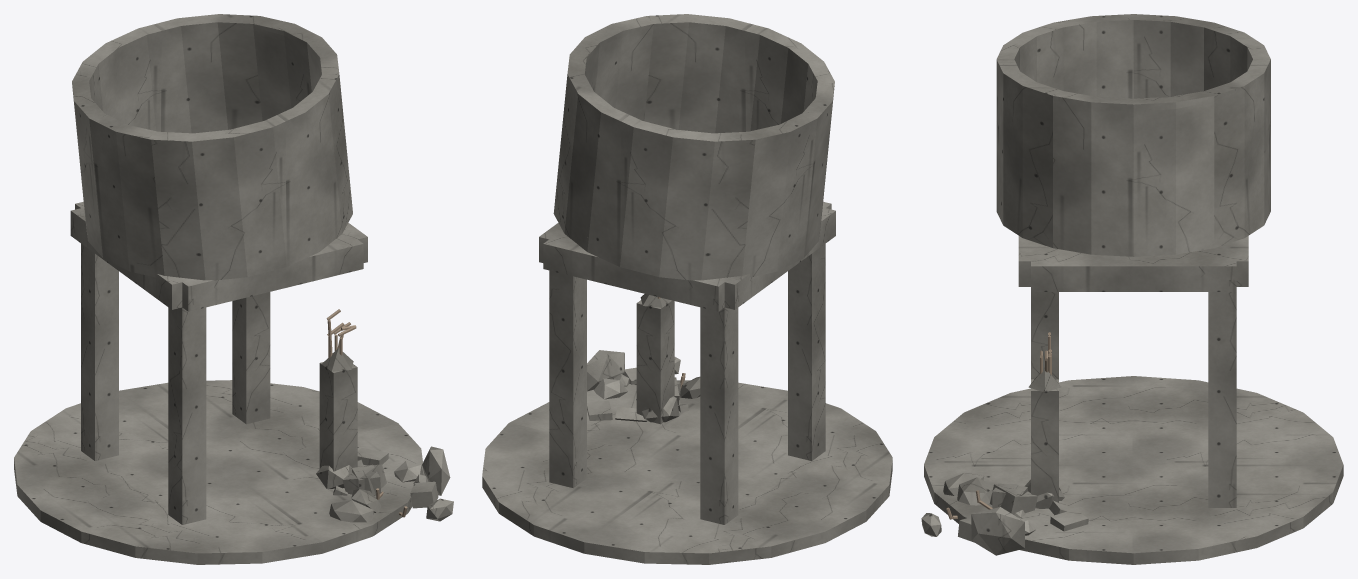
File: Water_Tower.fbx
3 views of the same model, side by side, from view 1: azimuth 30°, elevation 25°; view 2: azimuth 150°, elevation 25°; view 3: azimuth 270°, elevation 25° (orthographic).
Visible parts, largest first — view 1: Water_Tower; view 2: Water_Tower; view 3: Water_Tower.
Boxes of the visible parts, bbox=[...] form: Water_Tower: bbox=[14, 14, 453, 564]; Water_Tower: bbox=[482, 14, 892, 564]; Water_Tower: bbox=[921, 14, 1343, 564].
Bounding box in the file's own units: 5.2 × 5.81 × 5.23.
2 materials, 1 textured.
